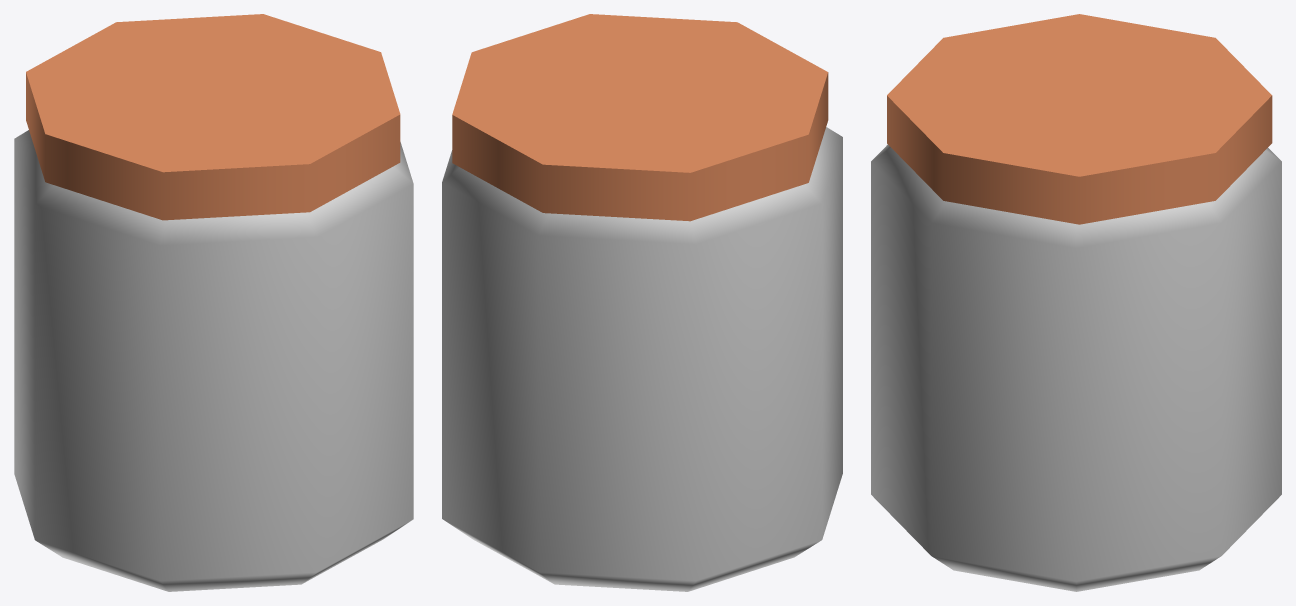
Rendered from cookie_jar.fbx.
3 views of the same model, side by side, from view 1: azimuth 30°, elevation 25°; view 2: azimuth 150°, elevation 25°; view 3: azimuth 270°, elevation 25° (orthographic).
Parts seen in each view (by area): view 1: PoteDeBiscoito_mesh; view 2: PoteDeBiscoito_mesh; view 3: PoteDeBiscoito_mesh.
Boxes of the visible parts, x1,y1,x2,y2 form: PoteDeBiscoito_mesh: [14, 14, 413, 591]; PoteDeBiscoito_mesh: [442, 14, 842, 591]; PoteDeBiscoito_mesh: [871, 14, 1281, 591].
Bounding box in the file's own units: 4.17 × 4.75 × 4.17.
